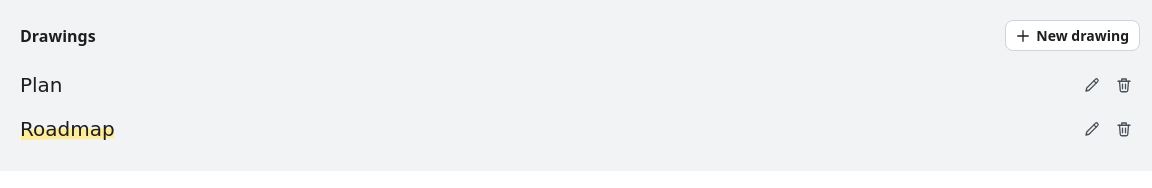
Test: DrawingList › renames a drawing in place
Click the button named "Rename Plan" at (1092,85), box [1076,69,1108,101]
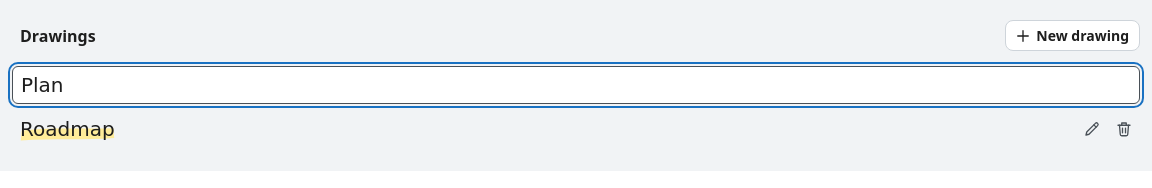
Check: the field named "New name for Plan" holds "Plan"
Replace the text in the field named "New name for Plan" with "Ideas" at (576,85), box [12,66,1140,104]
Then press Enter
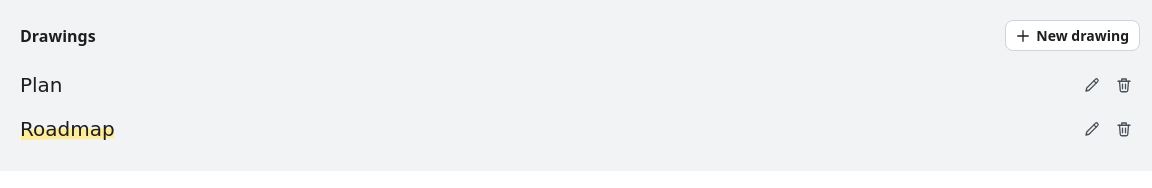
Check: the button "Plan" is shown, box [12,67,1076,103]
